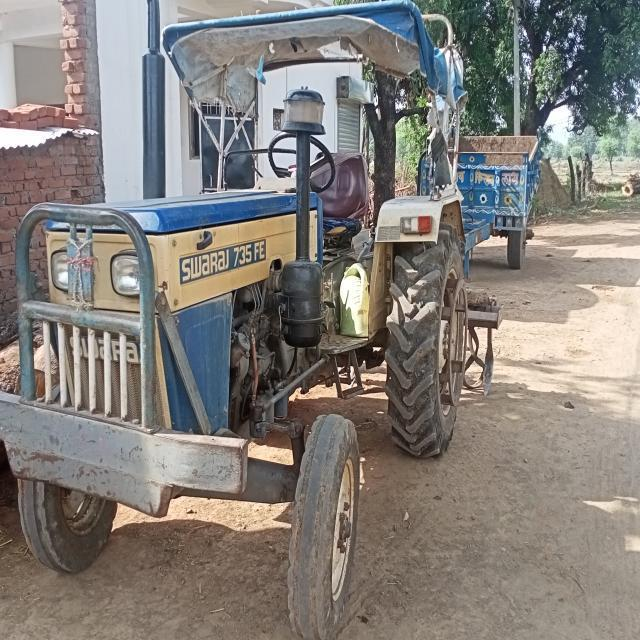tractor_front: (0, 0, 507, 639)
